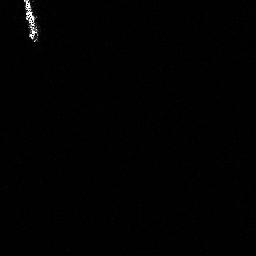ship: (19, 1, 41, 44)
